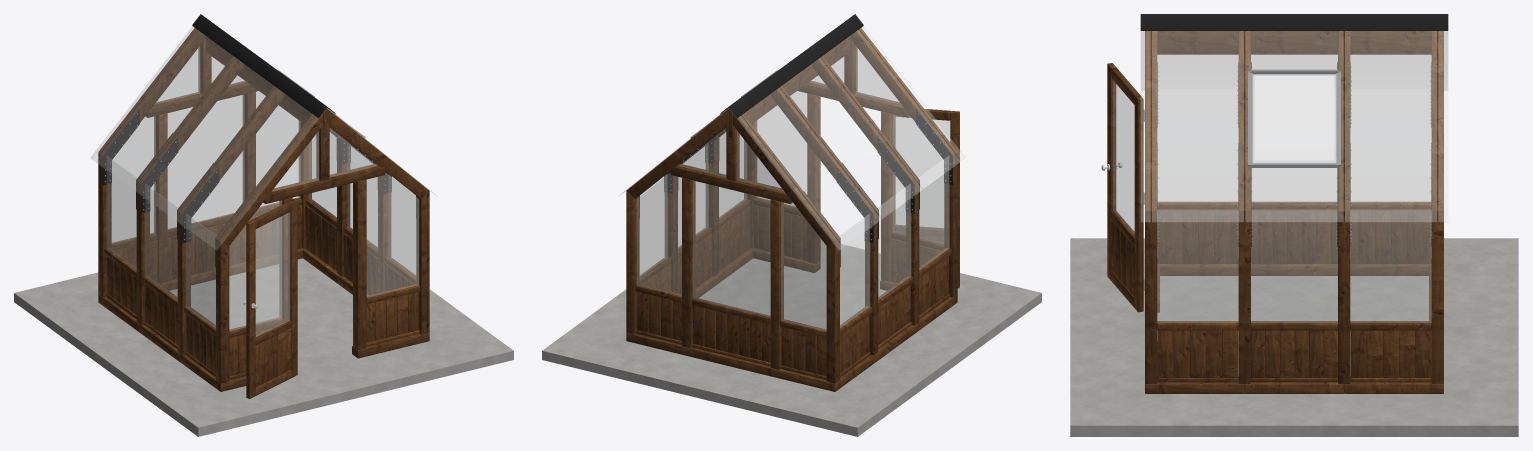
Rendered from nordwood-arrow-mini.glb.
3 renders of one model, left to right at view 1: azimuth 30°, elevation 25°; view 2: azimuth 150°, elevation 25°; view 3: azimuth 270°, elevation 25°, orthographic. The views are drawn at different scales.
Parts seen in each view (by area): view 1: nordwood-arrow-mini; view 2: nordwood-arrow-mini; view 3: nordwood-arrow-mini.
Boxes of the visible parts, box(x1,y1,x2,y2) form: nordwood-arrow-mini: box(14, 14, 513, 436); nordwood-arrow-mini: box(542, 14, 1041, 436); nordwood-arrow-mini: box(1070, 14, 1518, 436).
Bounding box in the file's own units: 3.62 × 2.97 × 3.66.
9 materials, 4 textured.
